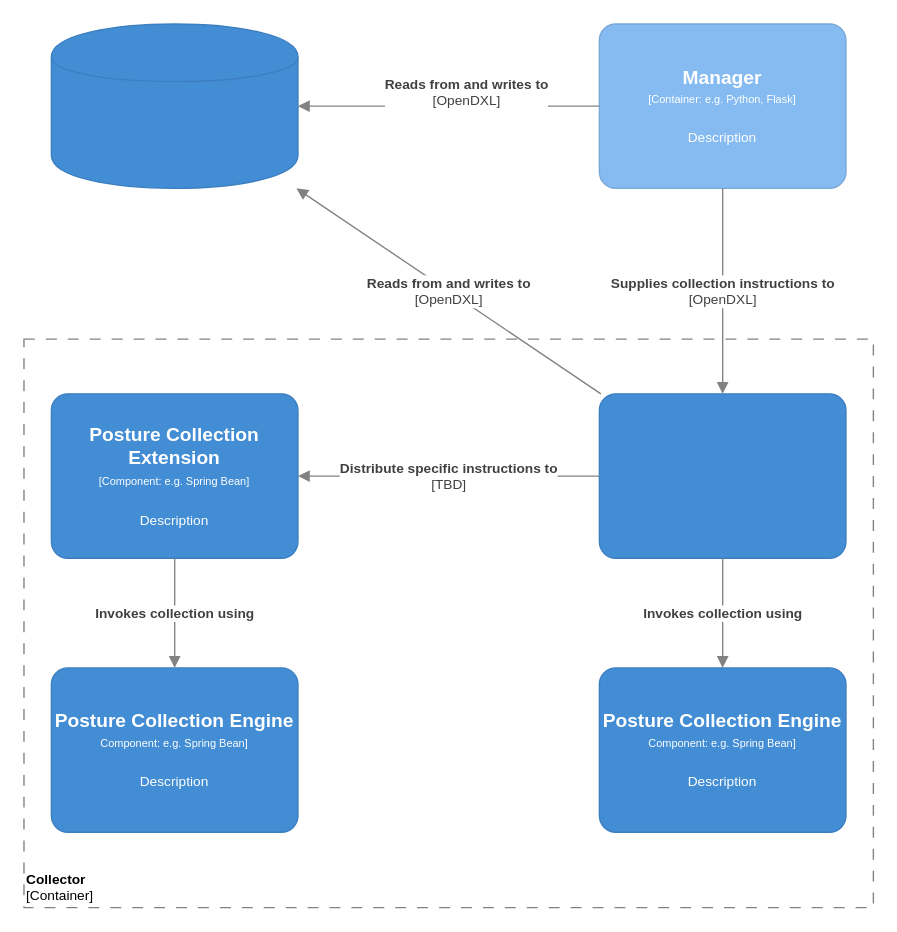
This 897x932 diagram has some shape labels left out. Each missing label, with the box of its shape:
Posture Collection Service [Component: e.g. Spring Bean] Description: (598, 393, 846, 558)
Repository [Container: e.g. PostgreSQL] Description: (50, 23, 298, 188)
